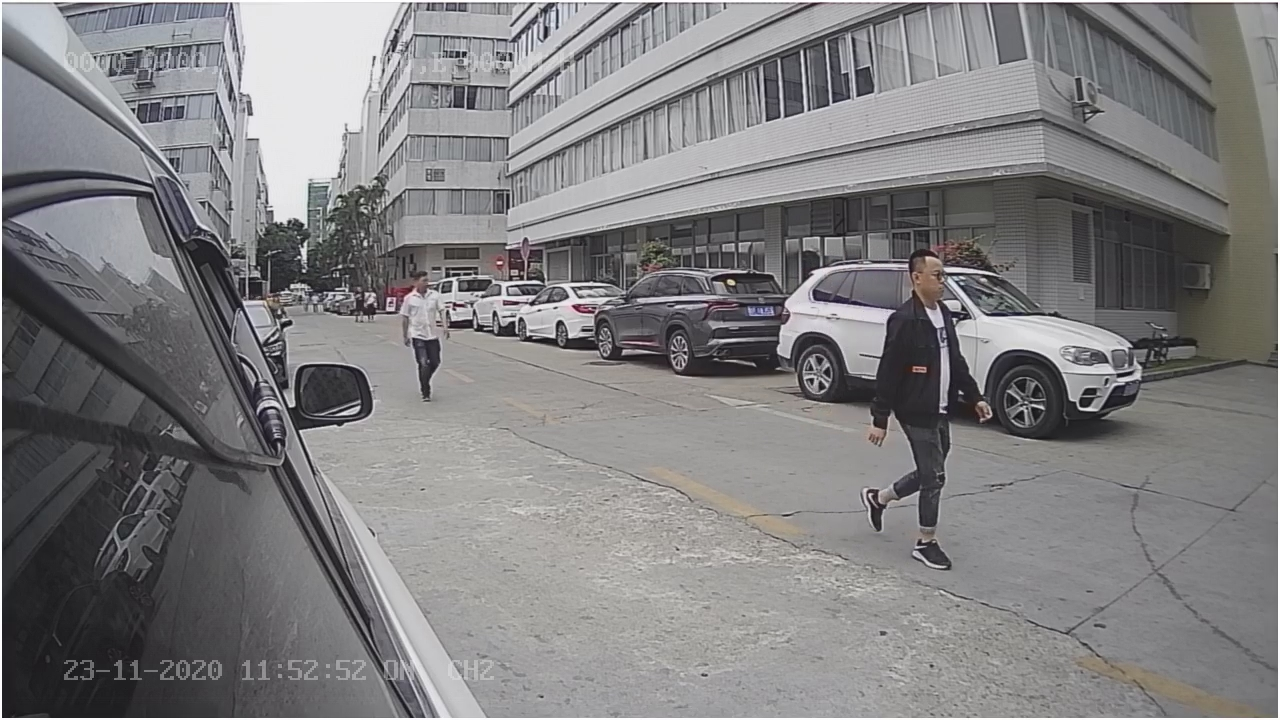person: (866, 249, 976, 562)
